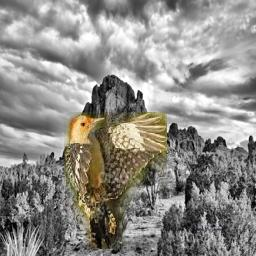Woodpecker: (65, 113, 168, 250)
